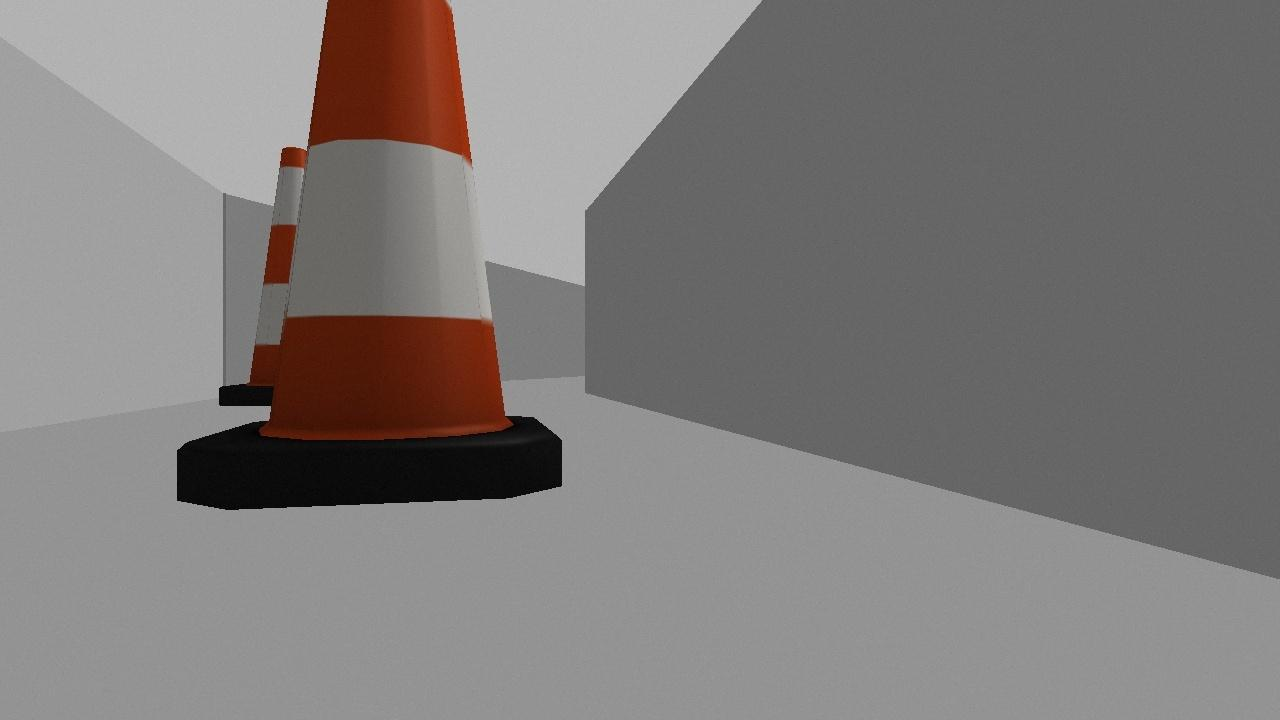cone_barrel: (157, 0, 571, 519), (205, 141, 342, 414)
